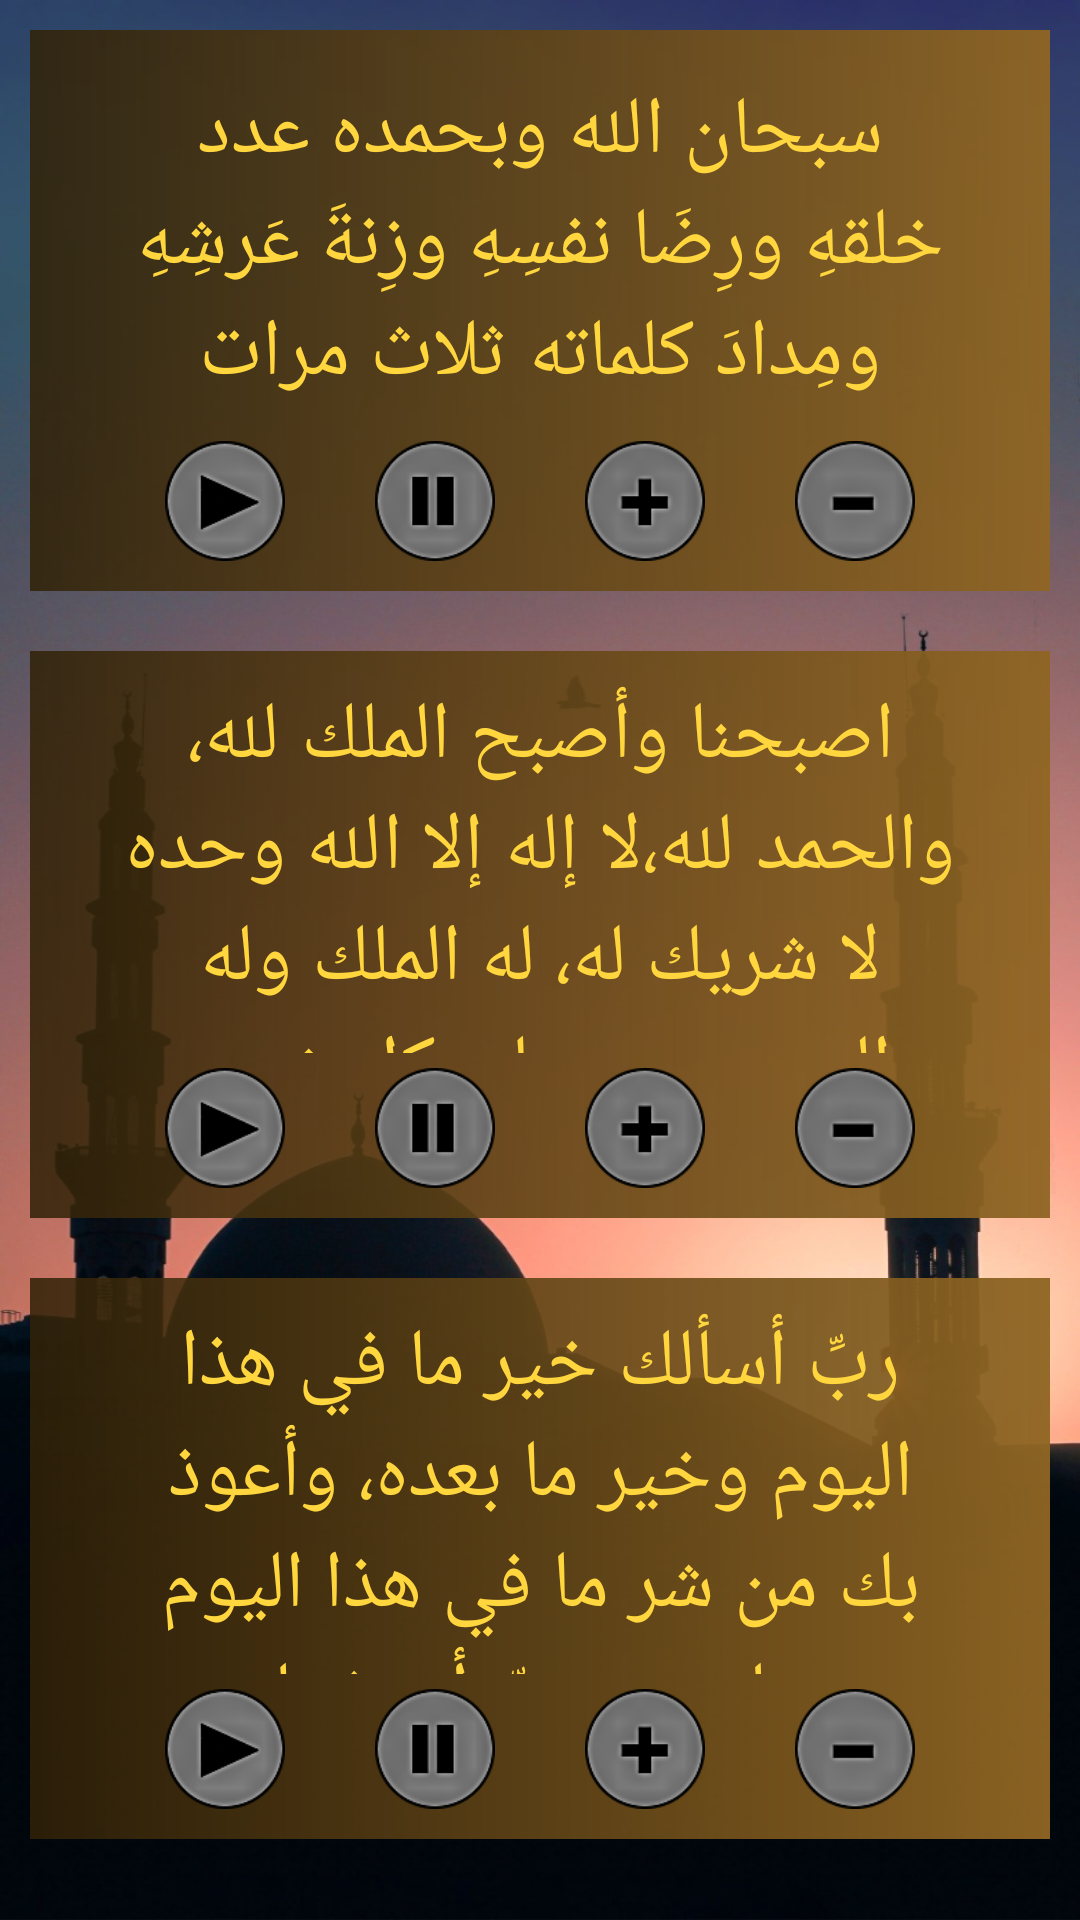

Where to tap for icons on this 1080px×1920px app screen, as point (x, y):
pause: point (435, 501), point (435, 1128), point (435, 1749)
play: point (225, 501), point (225, 1128), point (225, 1749)
zoom in: point (645, 501), point (645, 1128), point (645, 1749)
zoom out: point (855, 501), point (855, 1128), point (855, 1749)
